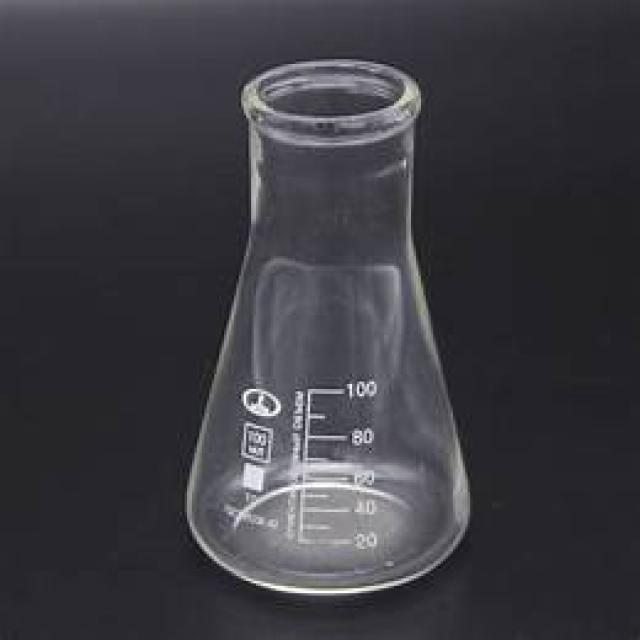Titrarion: (178, 59, 478, 602)
